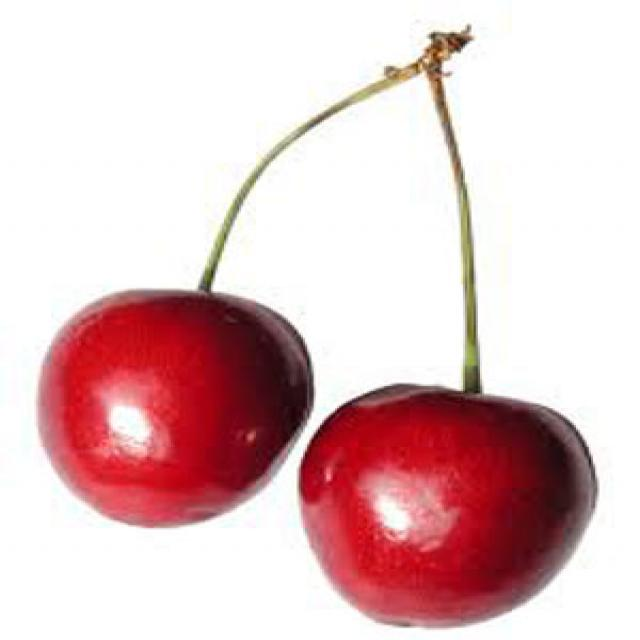cherry: (26, 26, 604, 634)
